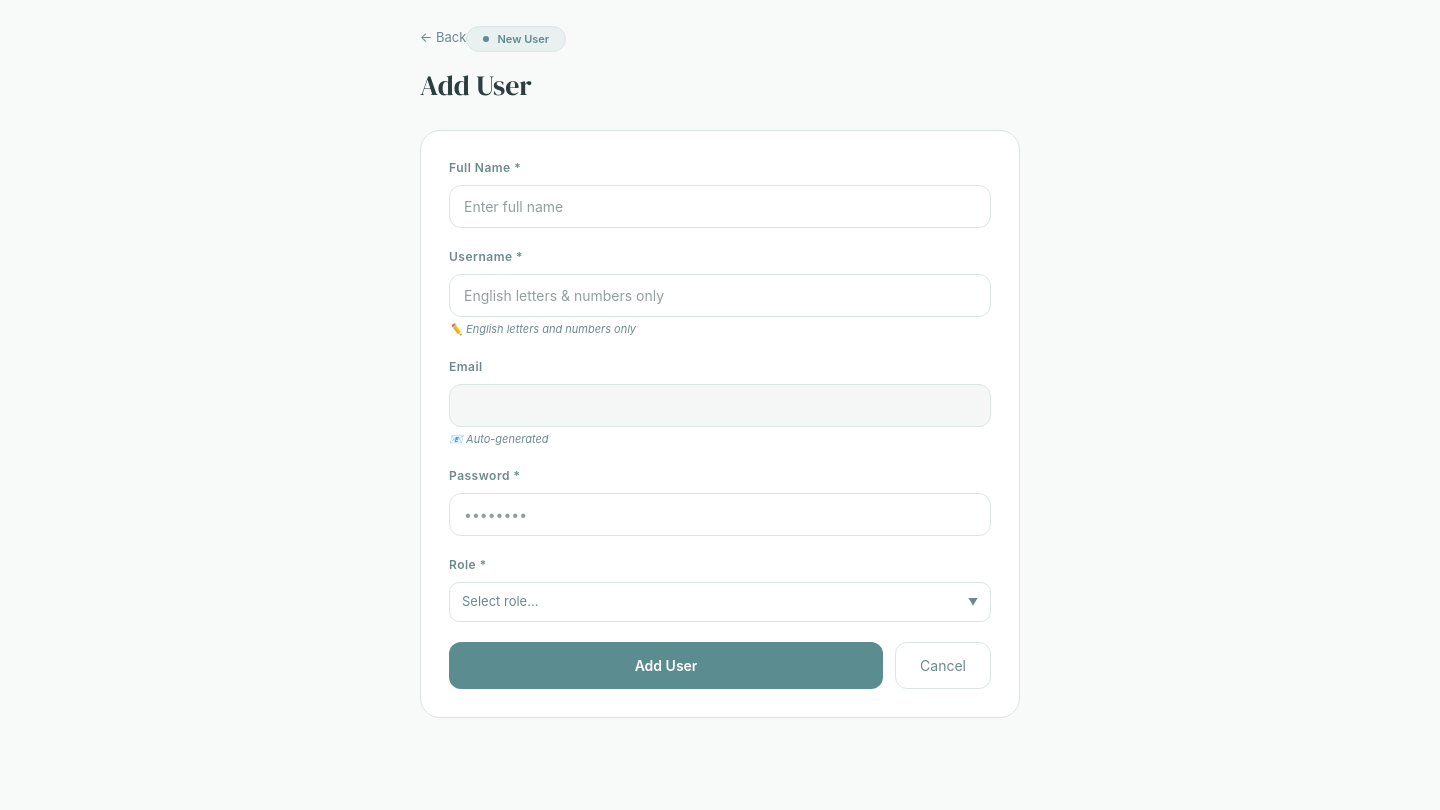
Scenario: AddUser › shows the server error message when creating the user fails
Type "Sara Ahmad" into the field with placeholder "Enter full name" at (720, 207), box [449,185,991,228]
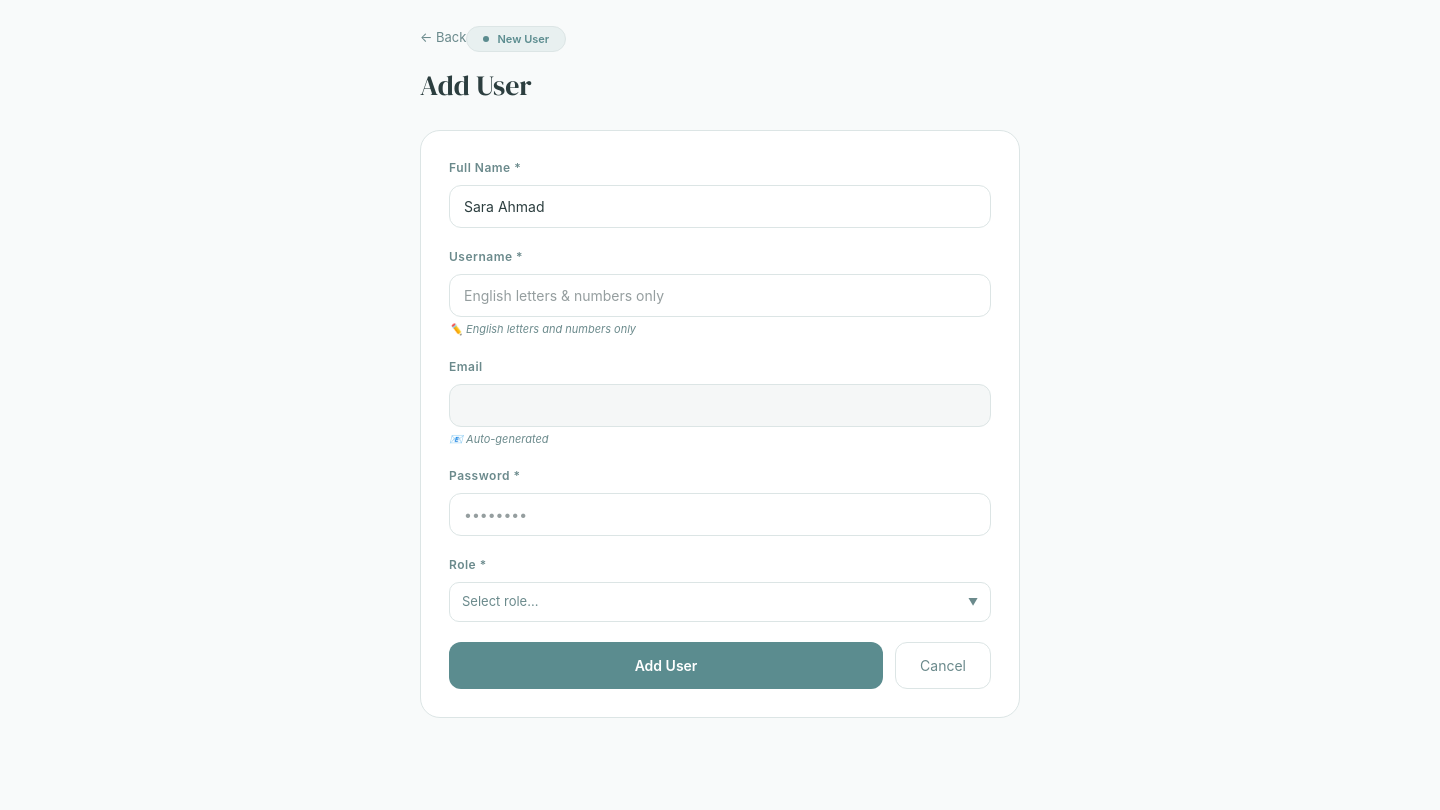
Type "saraahmad" into the field with placeholder "English letters & numbers only" at (720, 296), box [449,274,991,317]
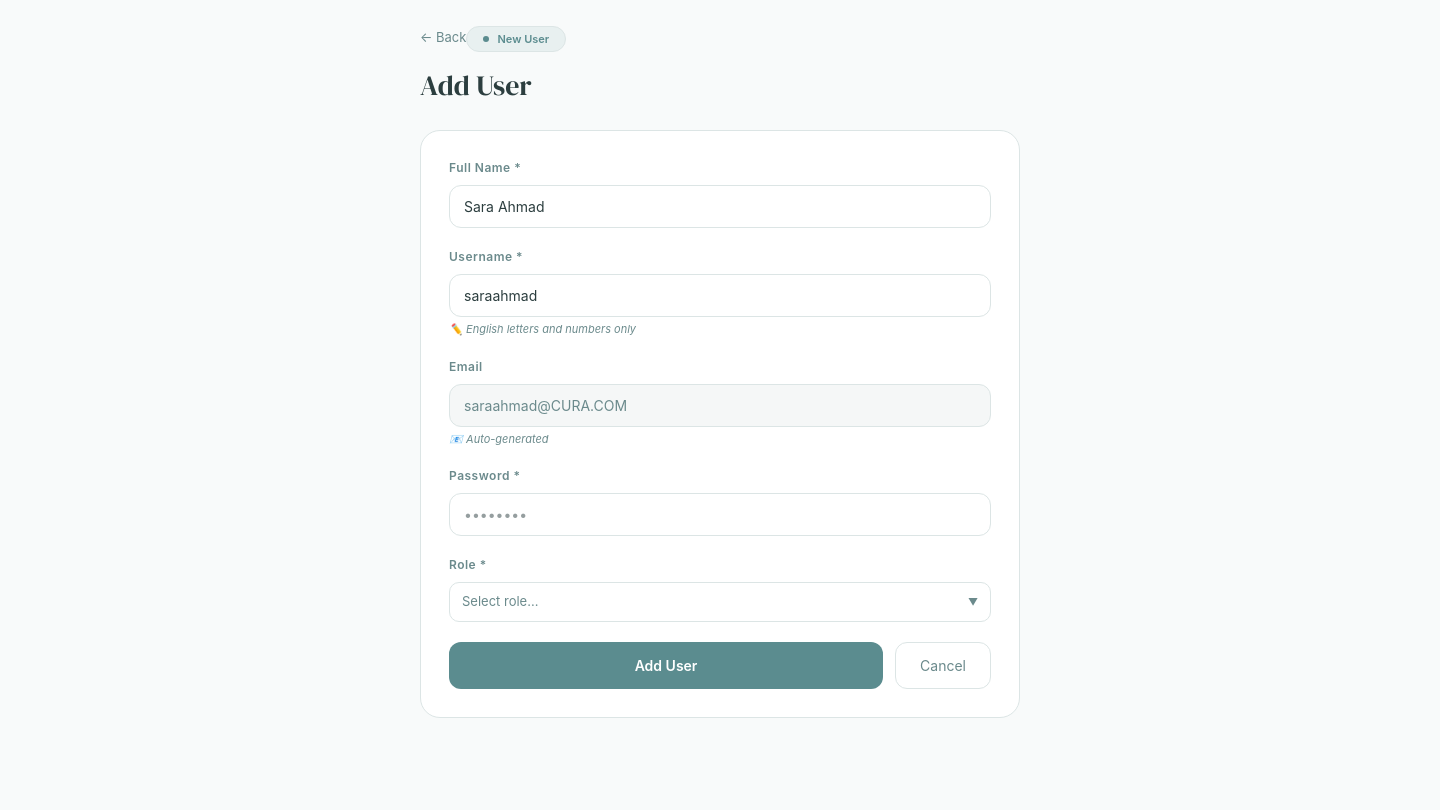
Type "password123" into the password field with placeholder "••••••••" at (720, 515), box [449,493,991,536]
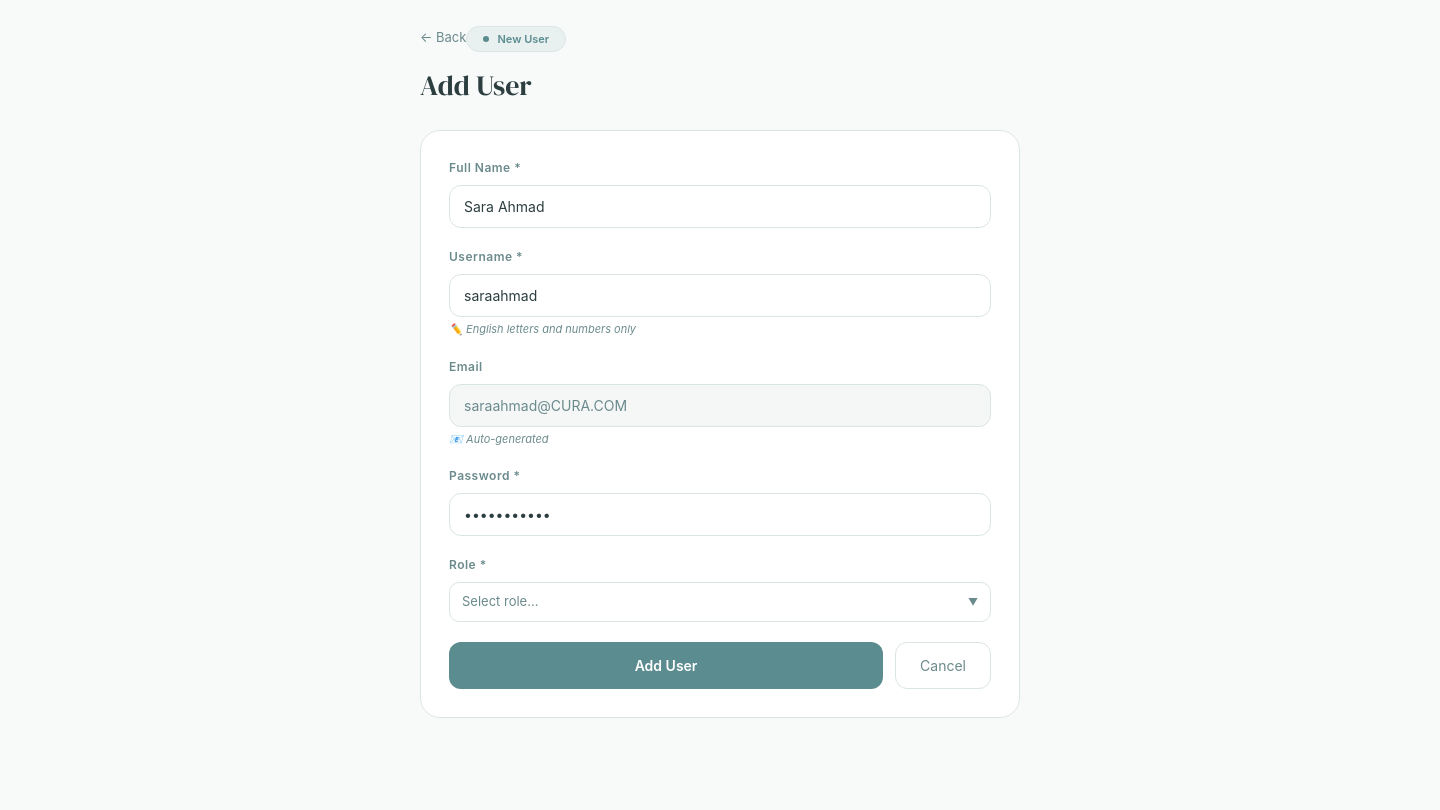
Click the button "Select role... ▼" at (500, 601), box [449,582,991,622]
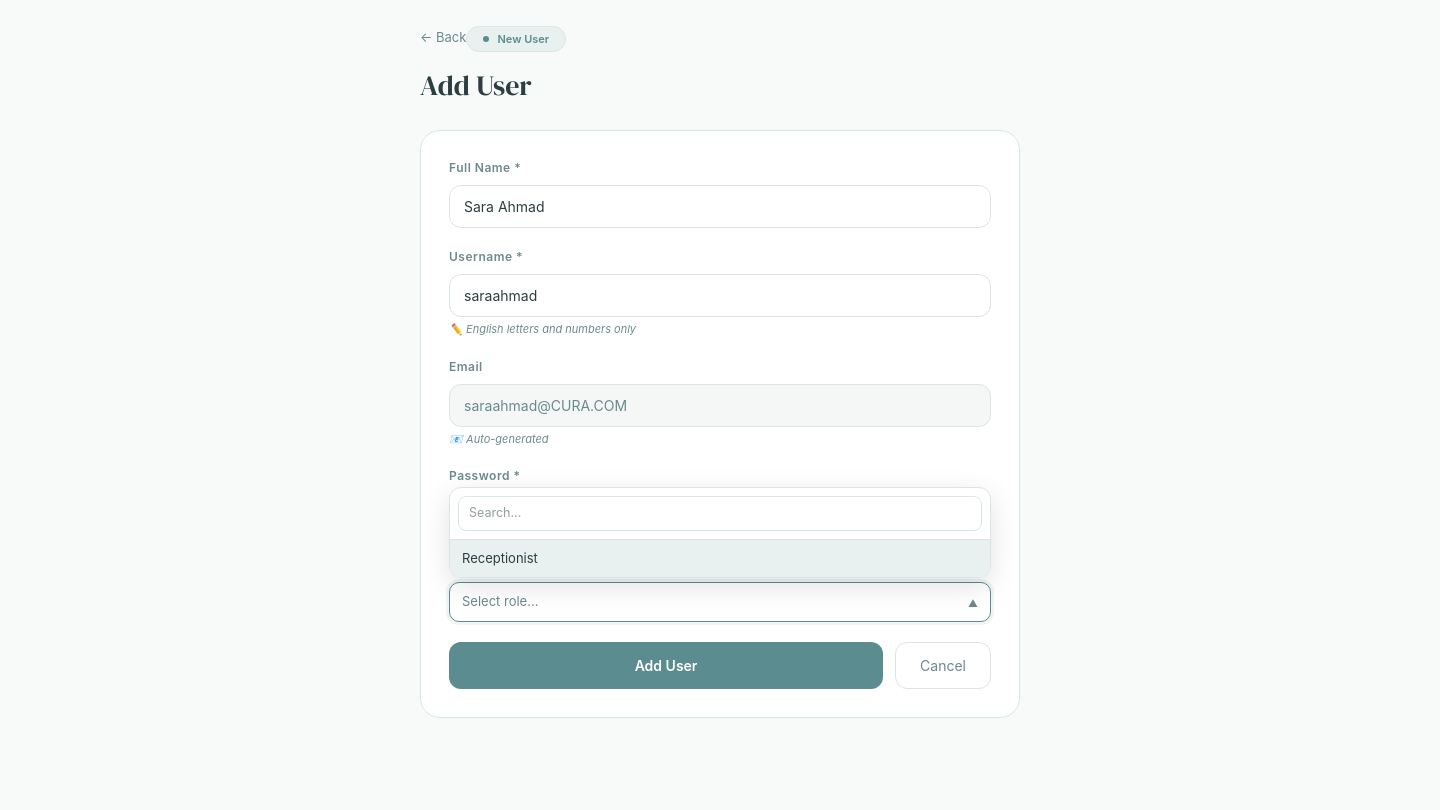
Click the option "Receptionist" at (500, 558), box [450,540,990,577]
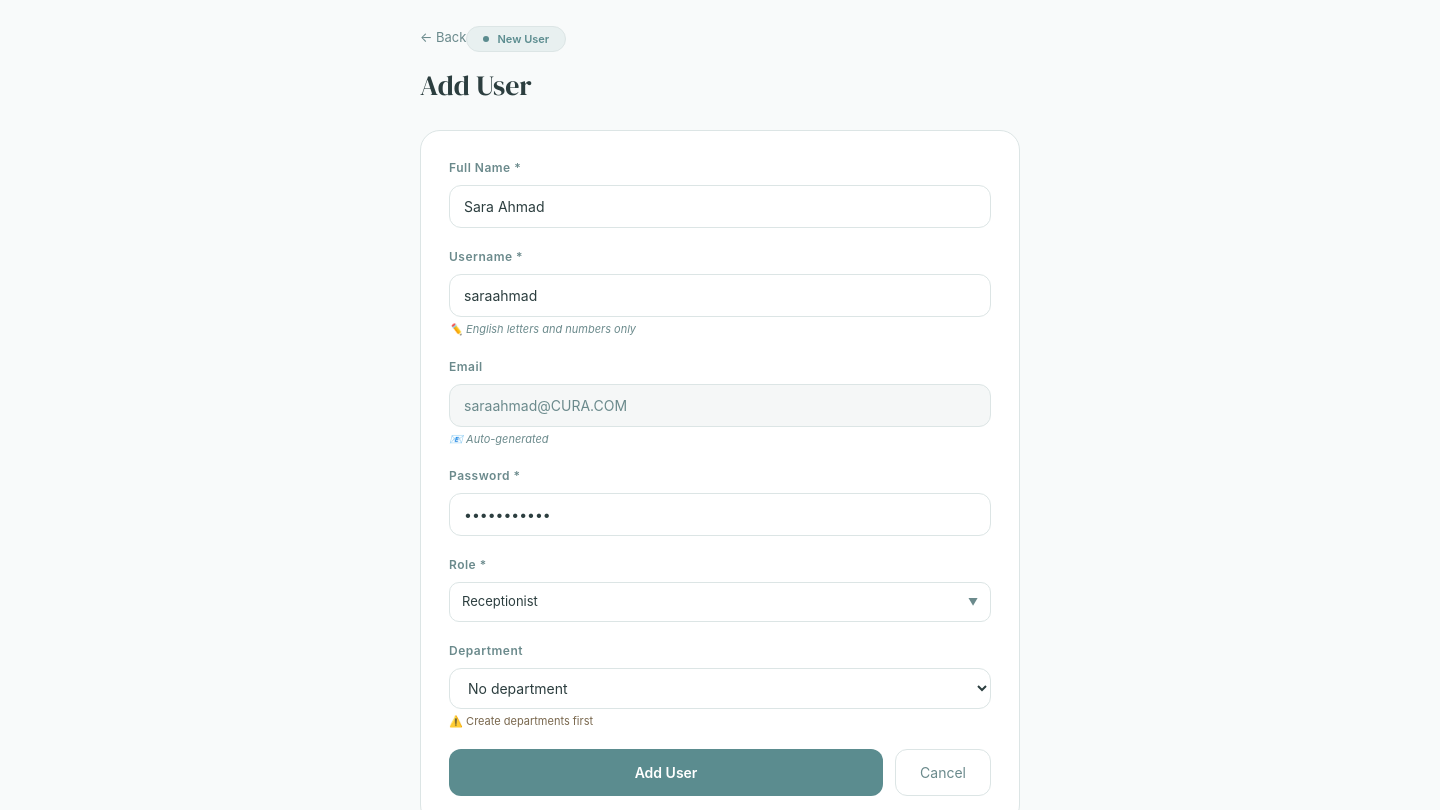
Click the button "Add User" at (666, 773), box [449,749,883,796]
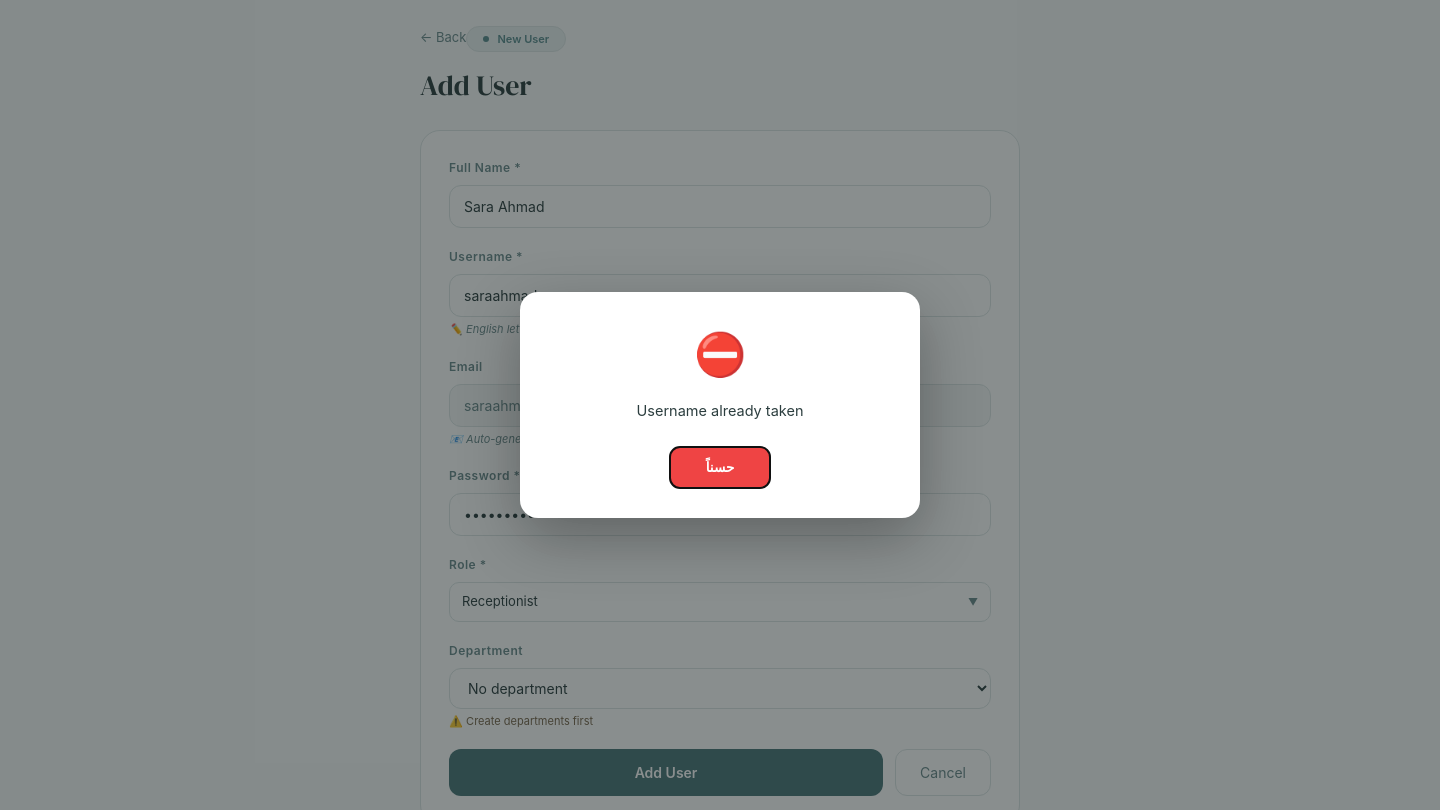
Now the text "Username already taken" is shown, box [636,402,803,419]
